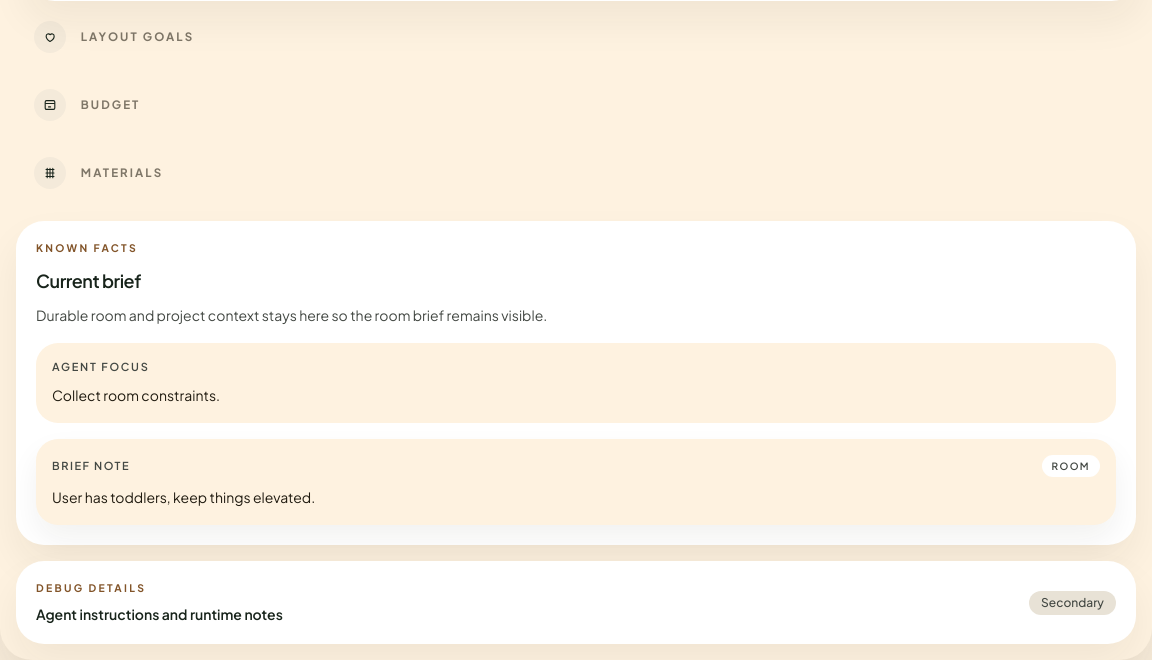
AgentInspectorPanel › reveals runtime notes and tools behind the debug affordance
(page scrolled)
Click the text "Agent instructions and runtime notes": [159, 614] box x1=36 y1=604 x2=283 y2=624
(page scrolled)
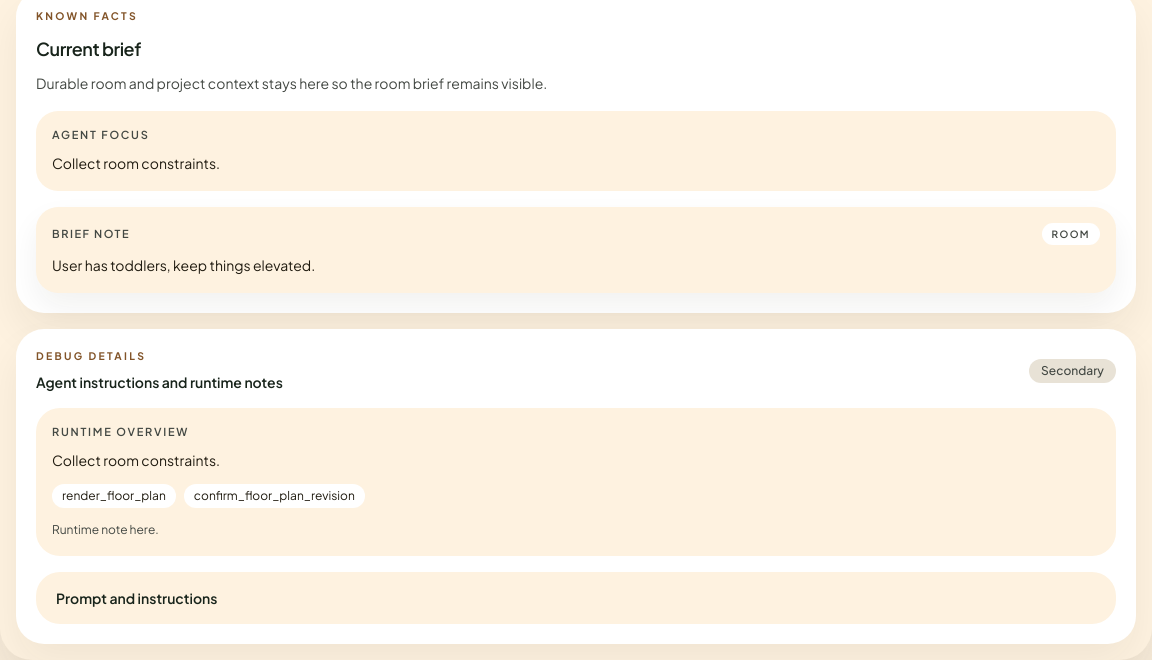
Expected: the list item "render_floor_plan" is shown, x1=52 y1=484 x2=176 y2=508
Expected: the text "Runtime note here." is shown, x1=52 y1=522 x2=159 y2=537
